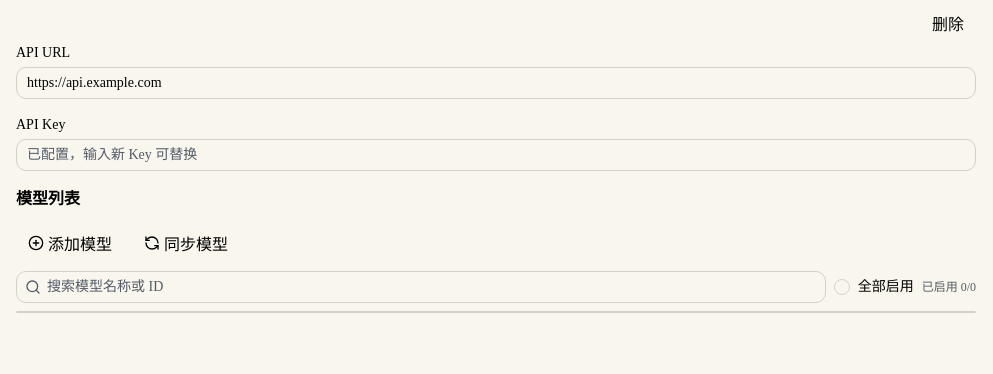
Test: providerSettingsPanel 状态隔离 › 输入过程中失焦不落盘，点击保存才提交新密钥
Step 1. Type "new-secret" into the password field labelled "API Key" → (496, 155), box [16,139,976,171]
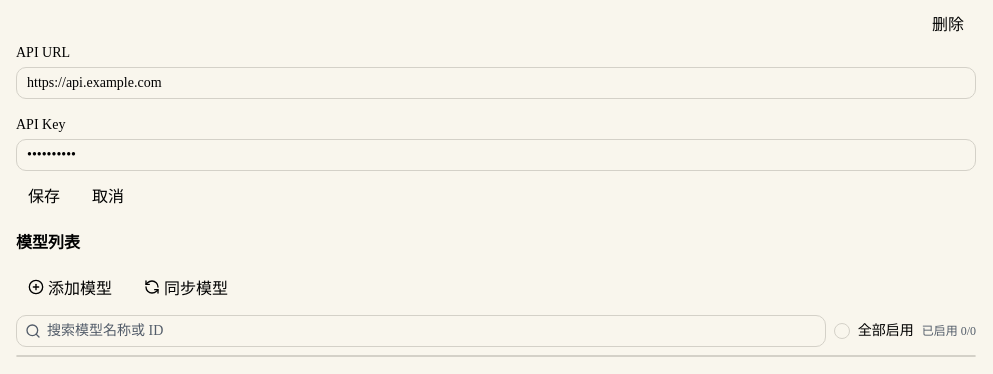
Step 2. Click the button "保存" → (44, 195), box [16,175,72,215]
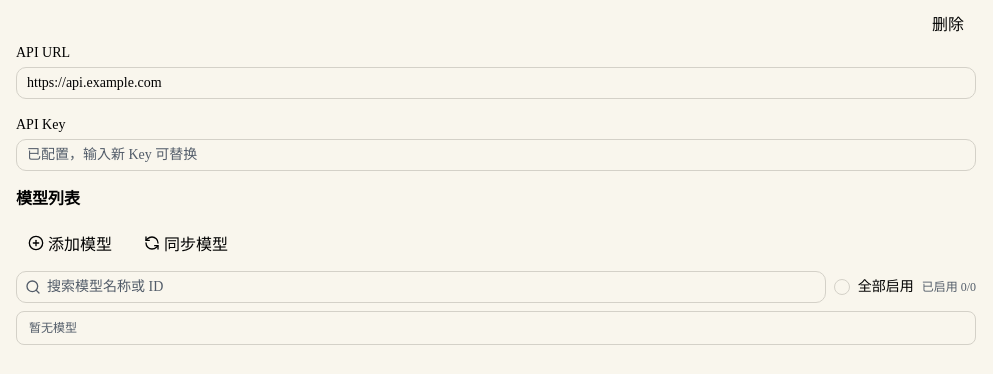
Expected: the password field labelled "API Key" is empty, [16,139,976,171]
Expected: the button "保存" is gone
